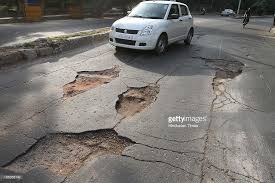pothole: (3, 124, 151, 183), (115, 79, 176, 126), (194, 56, 254, 103), (60, 60, 123, 100)
